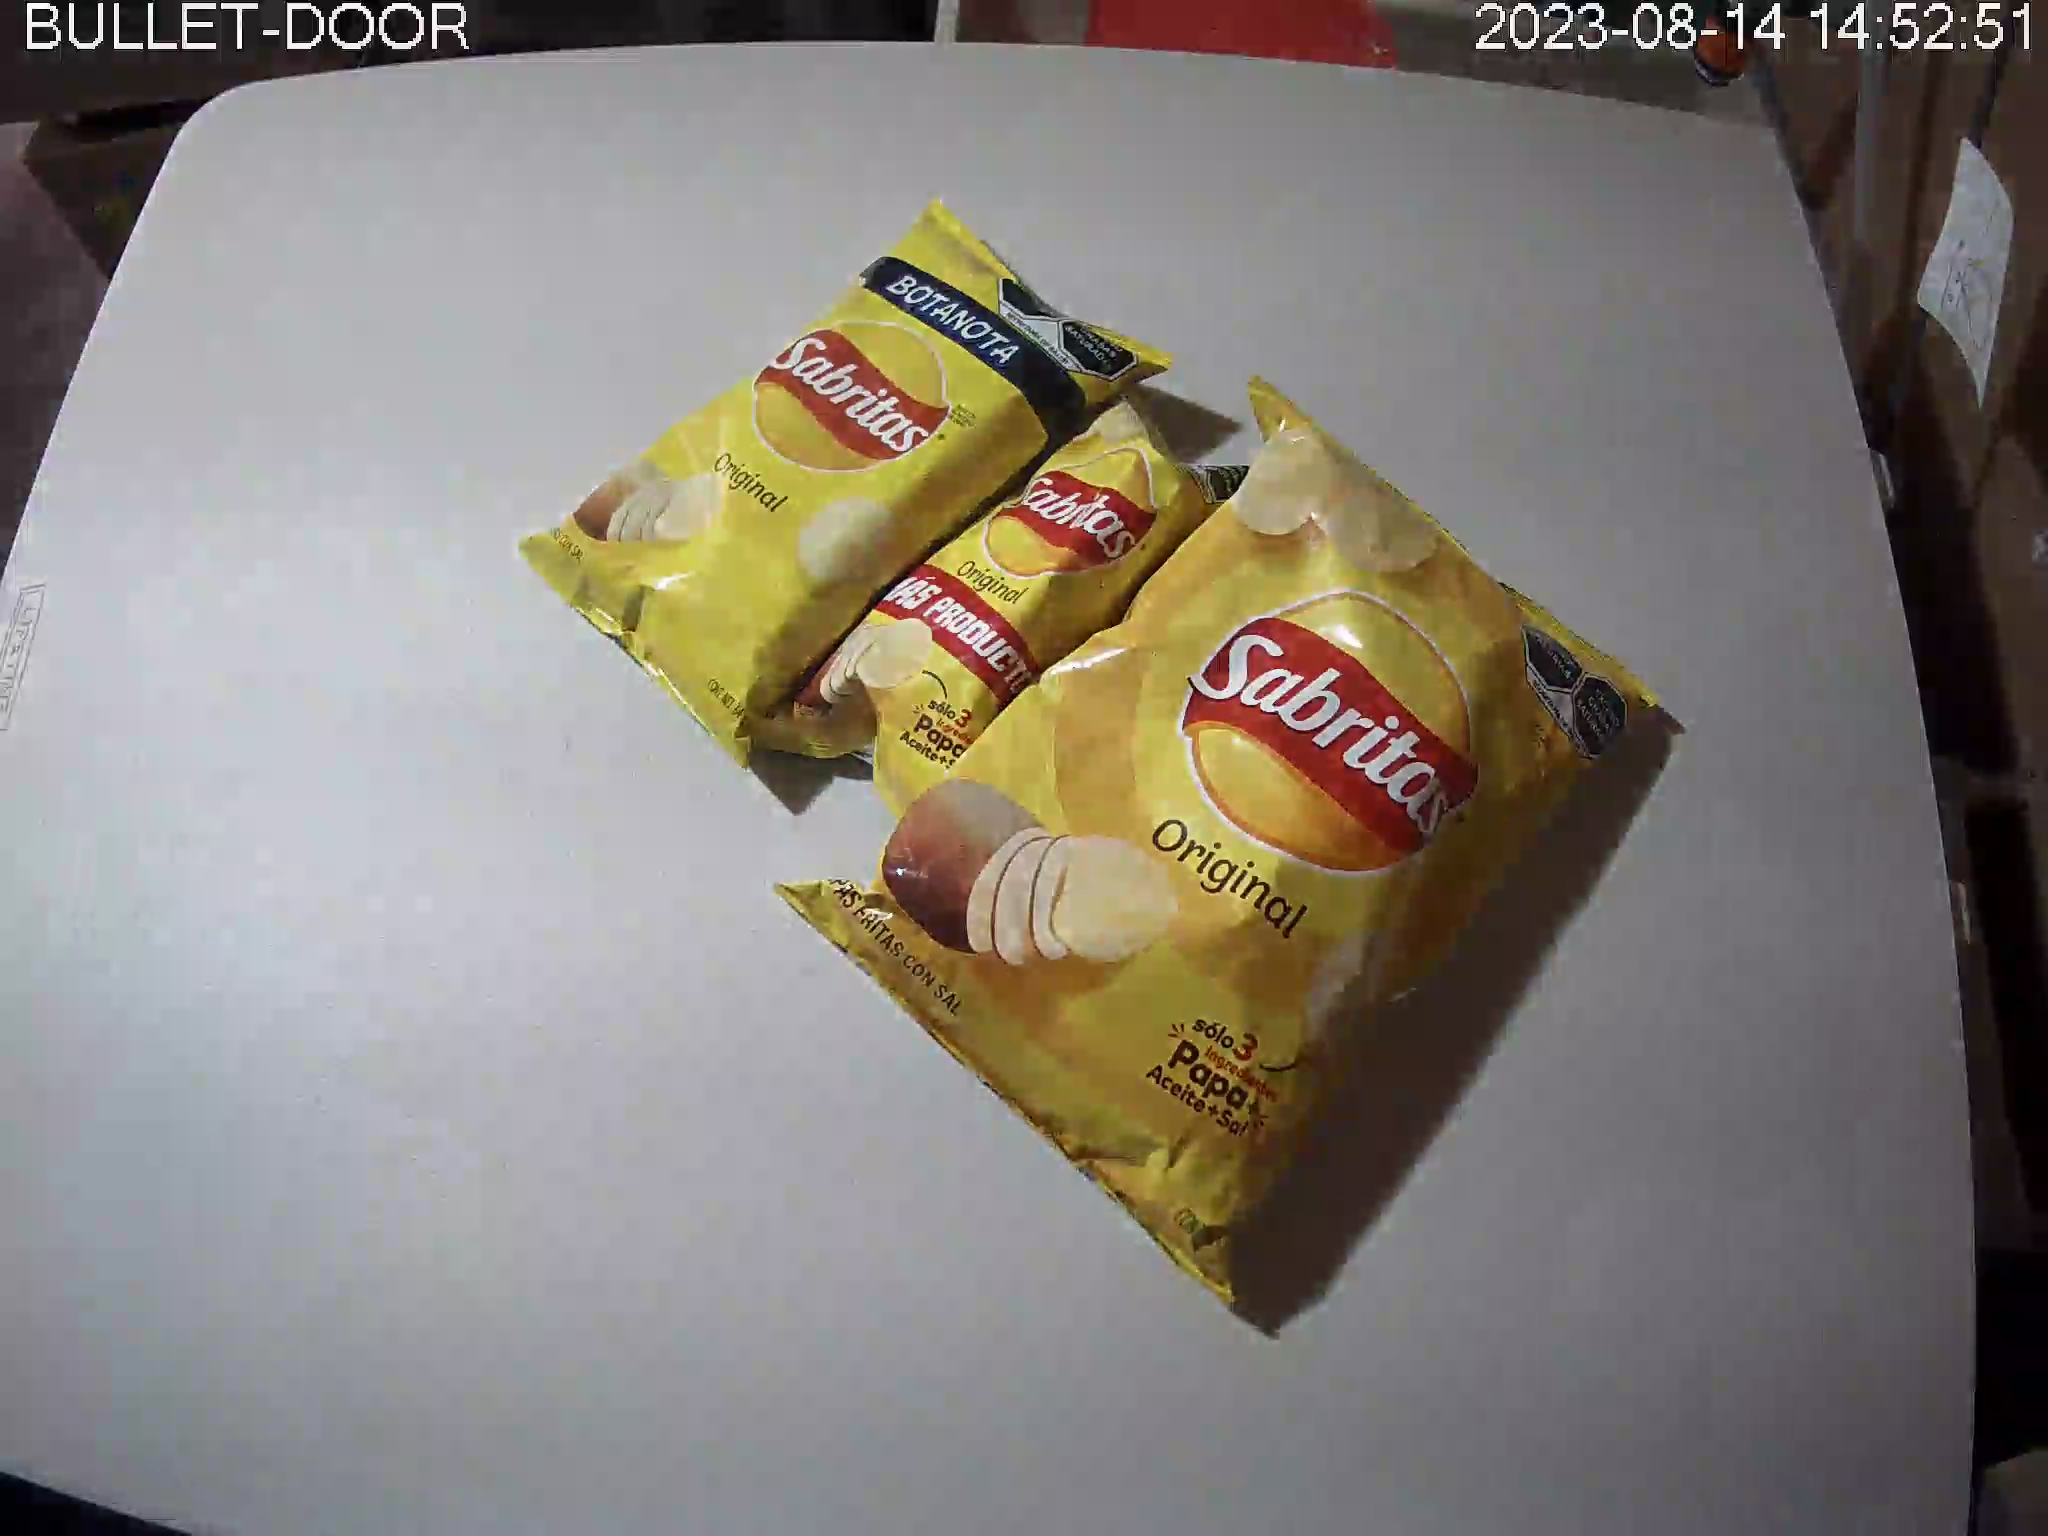Sabritas_160_F: (776, 374, 1661, 1313)
Sabritas_45_F: (751, 369, 1269, 837)
Sabritas_64_F: (514, 194, 1176, 774)
